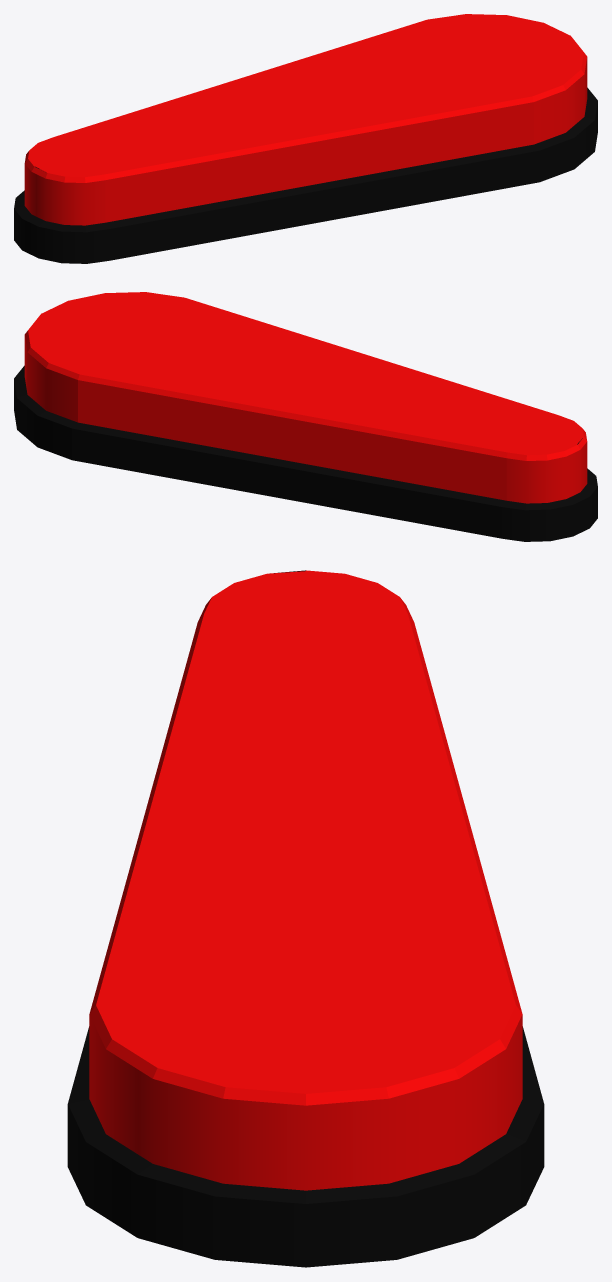
Rendered from Flipster.FBX.
3 views of the same model, one above another, from view 1: azimuth 30°, elevation 25°; view 2: azimuth 150°, elevation 25°; view 3: azimuth 270°, elevation 25° (orthographic). The views are drawn at different scales.
Parts seen in each view (by area): view 1: Cylinder001; view 2: Cylinder001; view 3: Cylinder001.
Part boxes in pixels (bbox=[...]): Cylinder001: bbox=[14, 14, 597, 263]; Cylinder001: bbox=[14, 292, 597, 541]; Cylinder001: bbox=[67, 570, 544, 1267].
Bounding box in the file's own units: 5.98 × 0.8454 × 2.2.
